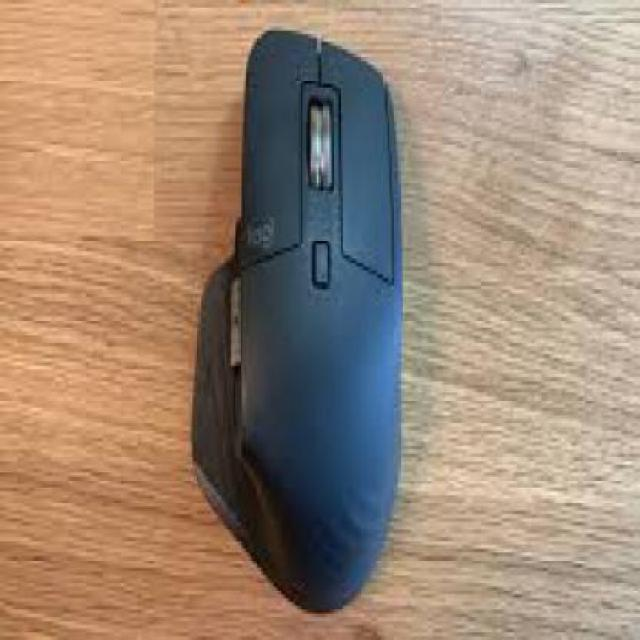mause: (128, 15, 514, 610)
